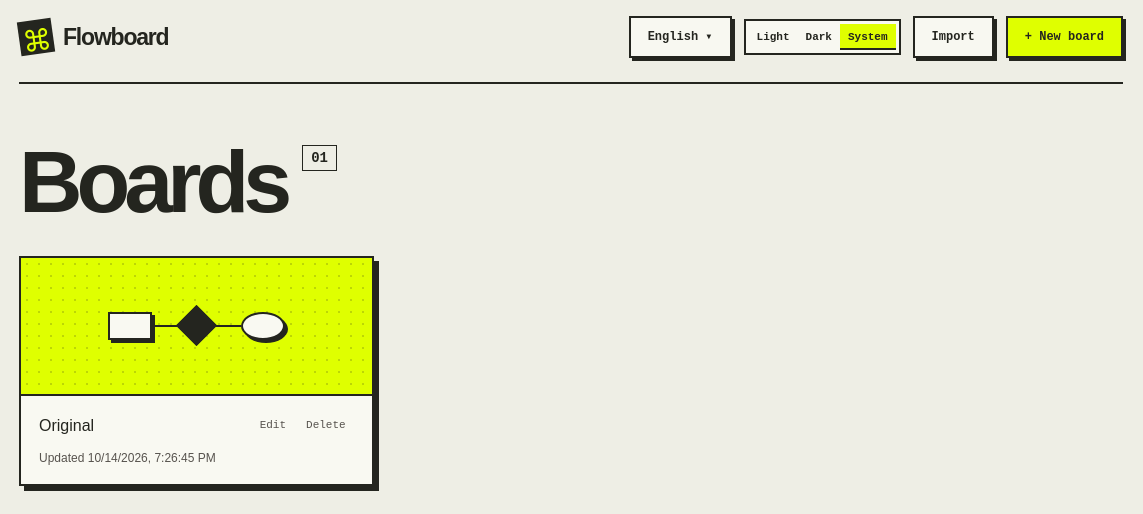
renames a board without navigating and persists the trimmed name
Click the button with aria-label "Rename Original".
click(273, 426)  # box [252,414,294,437]
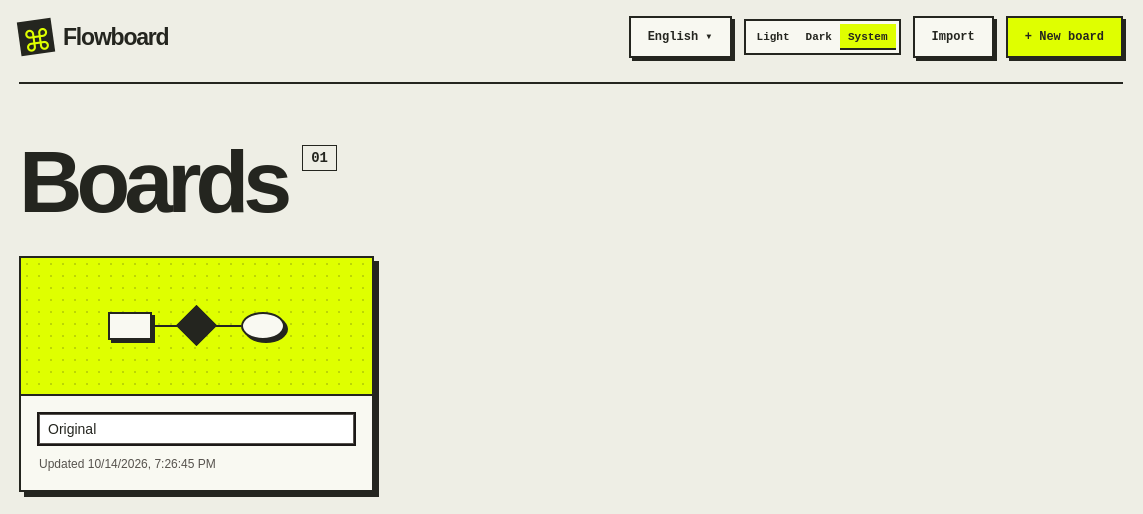
Replace the text in the field with "  Revised  " at (196, 429), box [39,414,354,444]
Then press Enter
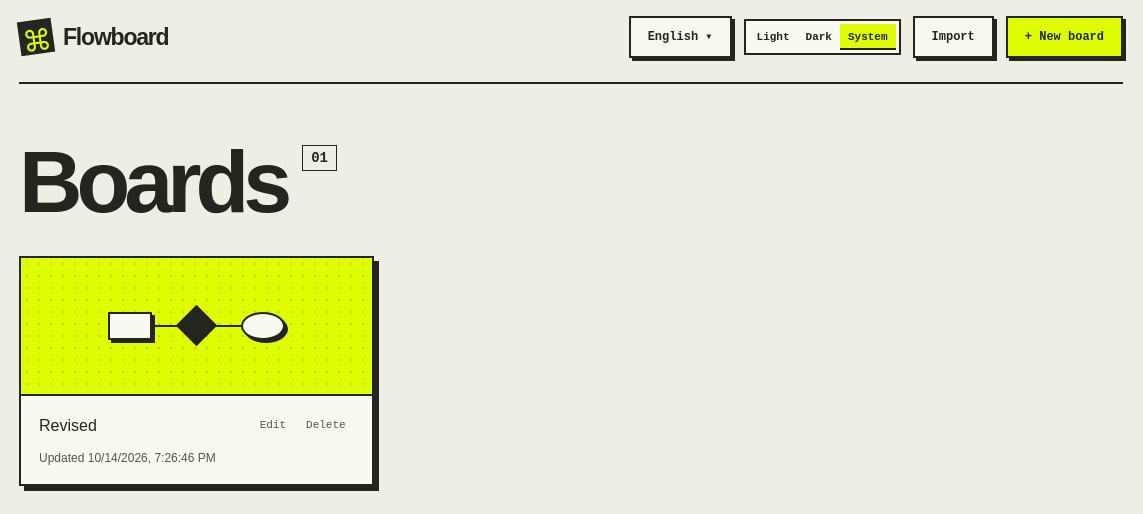
expect the button with aria-label "Rename Revised" is shown: met, box [252,414,294,437]
expect the text "Revised" is shown: met, box [39,414,97,438]
